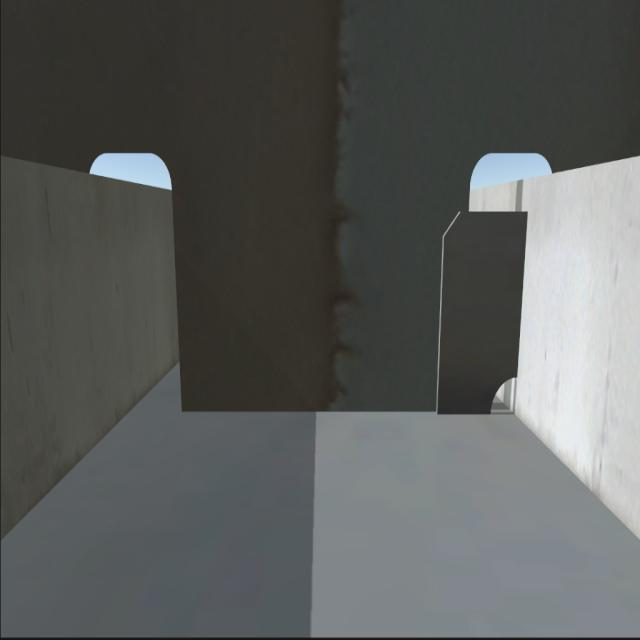fillet_hole: (486, 370, 520, 413)
fillet_yong_jeop_jang: (183, 400, 491, 422)
longi_yong_jeop_jang: (516, 214, 529, 378)
plate_CP03: (439, 210, 523, 409)
